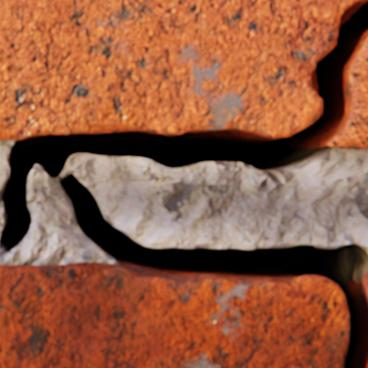broken_brick: (0, 0, 365, 139), (0, 262, 348, 367), (323, 36, 367, 149)
crack: (0, 0, 367, 367), (178, 279, 187, 282)
